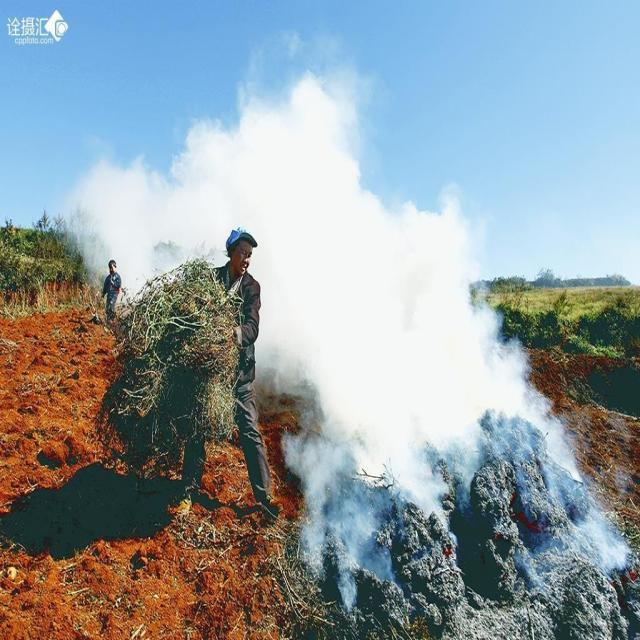Smoke: (60, 28, 630, 610)
